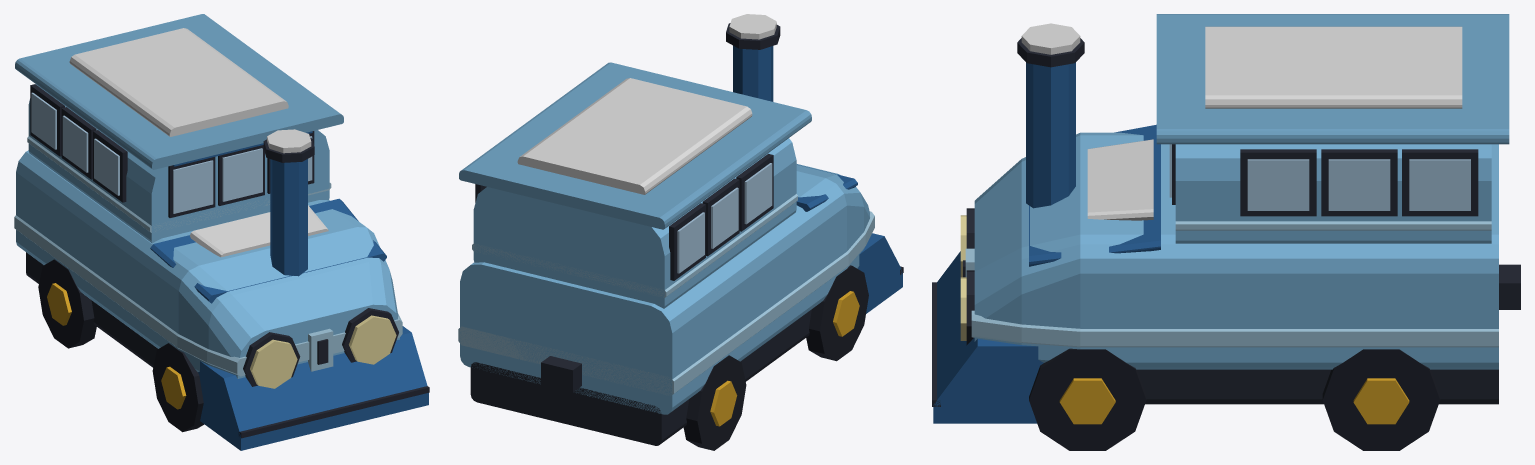
The model's file is train_loco_ice.glb.
3 views of the same model, side by side, from view 1: azimuth 30°, elevation 25°; view 2: azimuth 150°, elevation 25°; view 3: azimuth 270°, elevation 25° (orthographic). The views are drawn at different scales.
Visible parts, largest first — view 1: train_loco_ice; view 2: train_loco_ice; view 3: train_loco_ice.
Part boxes in pixels (x1,y1,x2,y2): train_loco_ice: [14, 14, 429, 450]; train_loco_ice: [458, 14, 903, 450]; train_loco_ice: [932, 14, 1520, 450].
Size of the model in its own units: 2.08 by 2.65 by 4.01.
